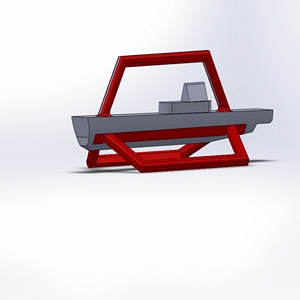submarine: (56, 33, 292, 198)
